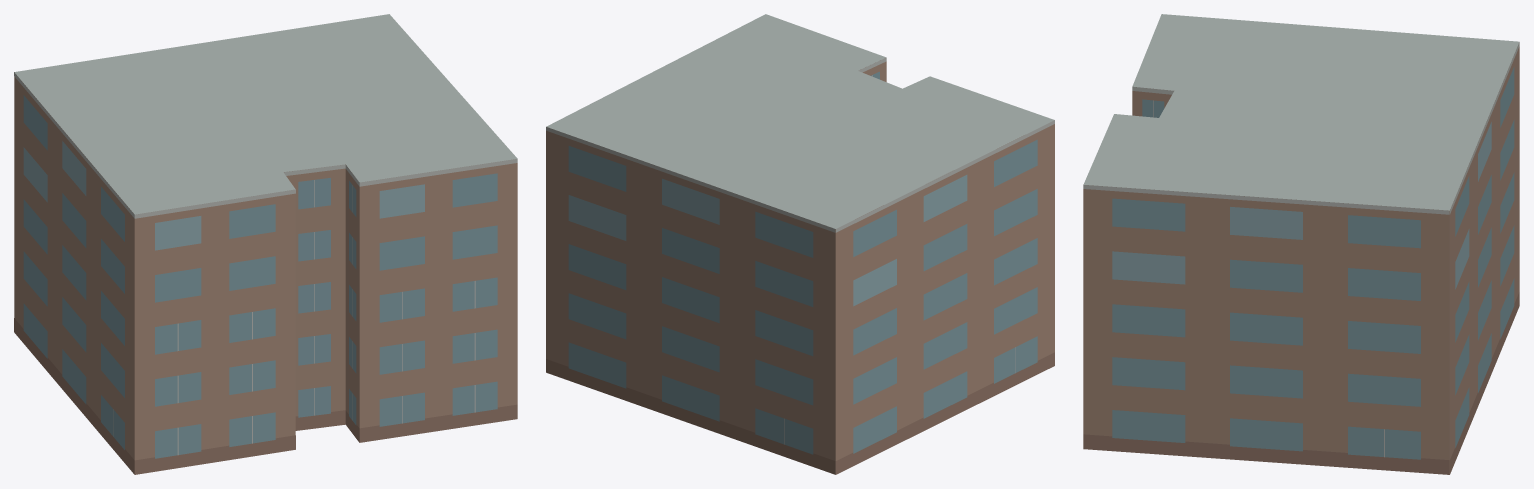
The model's file is survey-upis-32761017.glb.
The picture shows the model from 3 angles, left to right: view 1: azimuth 30°, elevation 25°; view 2: azimuth 150°, elevation 25°; view 3: azimuth 270°, elevation 25°; orthographic projection. The views are drawn at different scales.
Parts seen in each view (by area): view 1: survey-upis-32761017.tmp; view 2: survey-upis-32761017.tmp; view 3: survey-upis-32761017.tmp.
Boxes of the visible parts, box(x1,y1,x2,y2) form: survey-upis-32761017.tmp: box(14, 14, 517, 474); survey-upis-32761017.tmp: box(546, 14, 1054, 474); survey-upis-32761017.tmp: box(1083, 14, 1519, 474).
Bounding box in the file's own units: 24.57 × 15.4 × 23.04.
